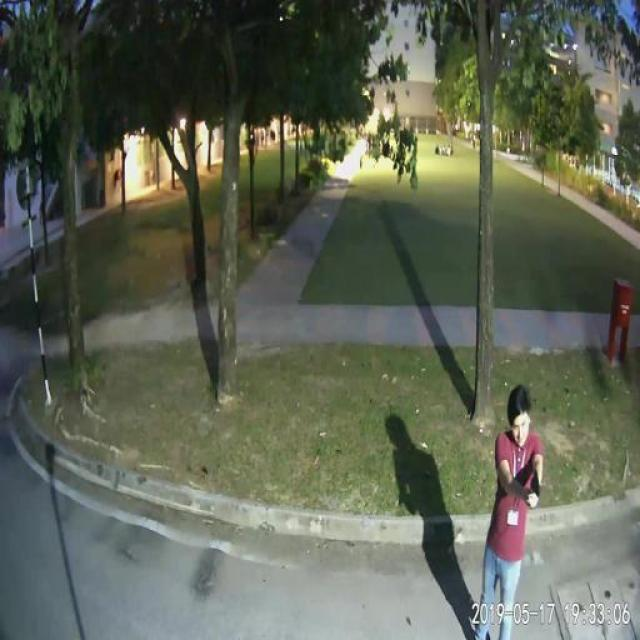Gun: (520, 466, 549, 508)
